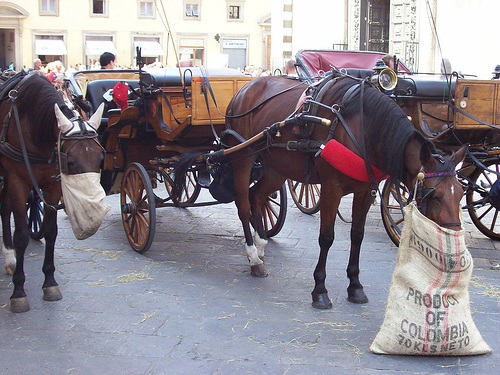horse: (213, 69, 470, 310), (1, 68, 111, 314)
